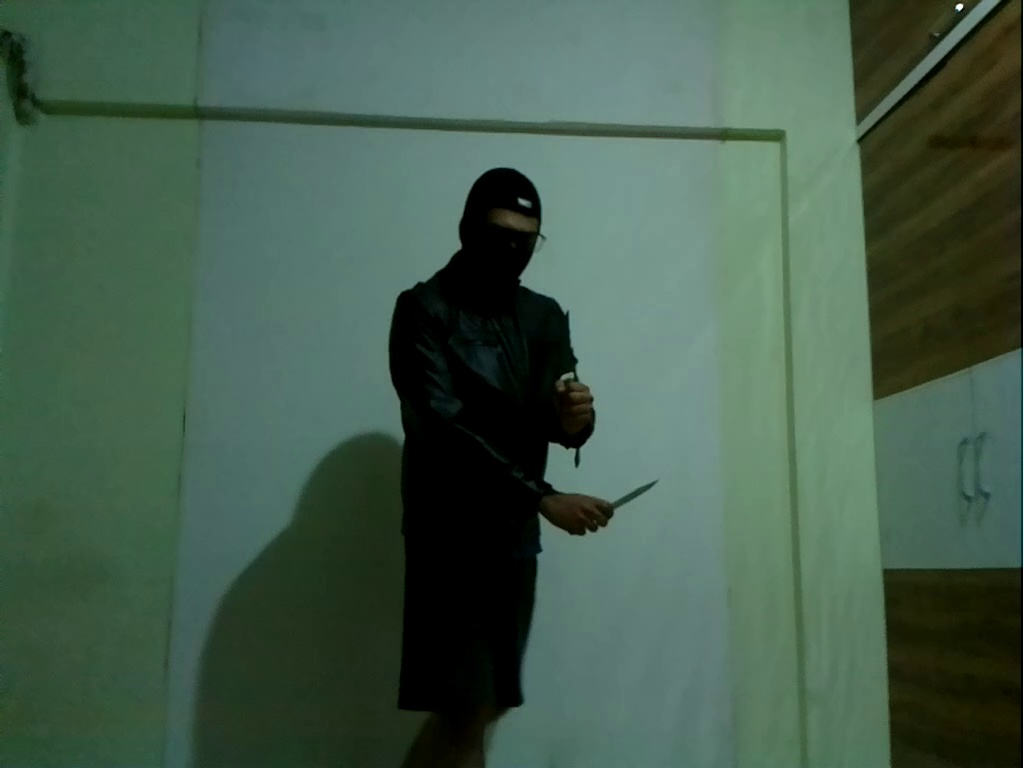knife: (609, 475, 661, 513)
